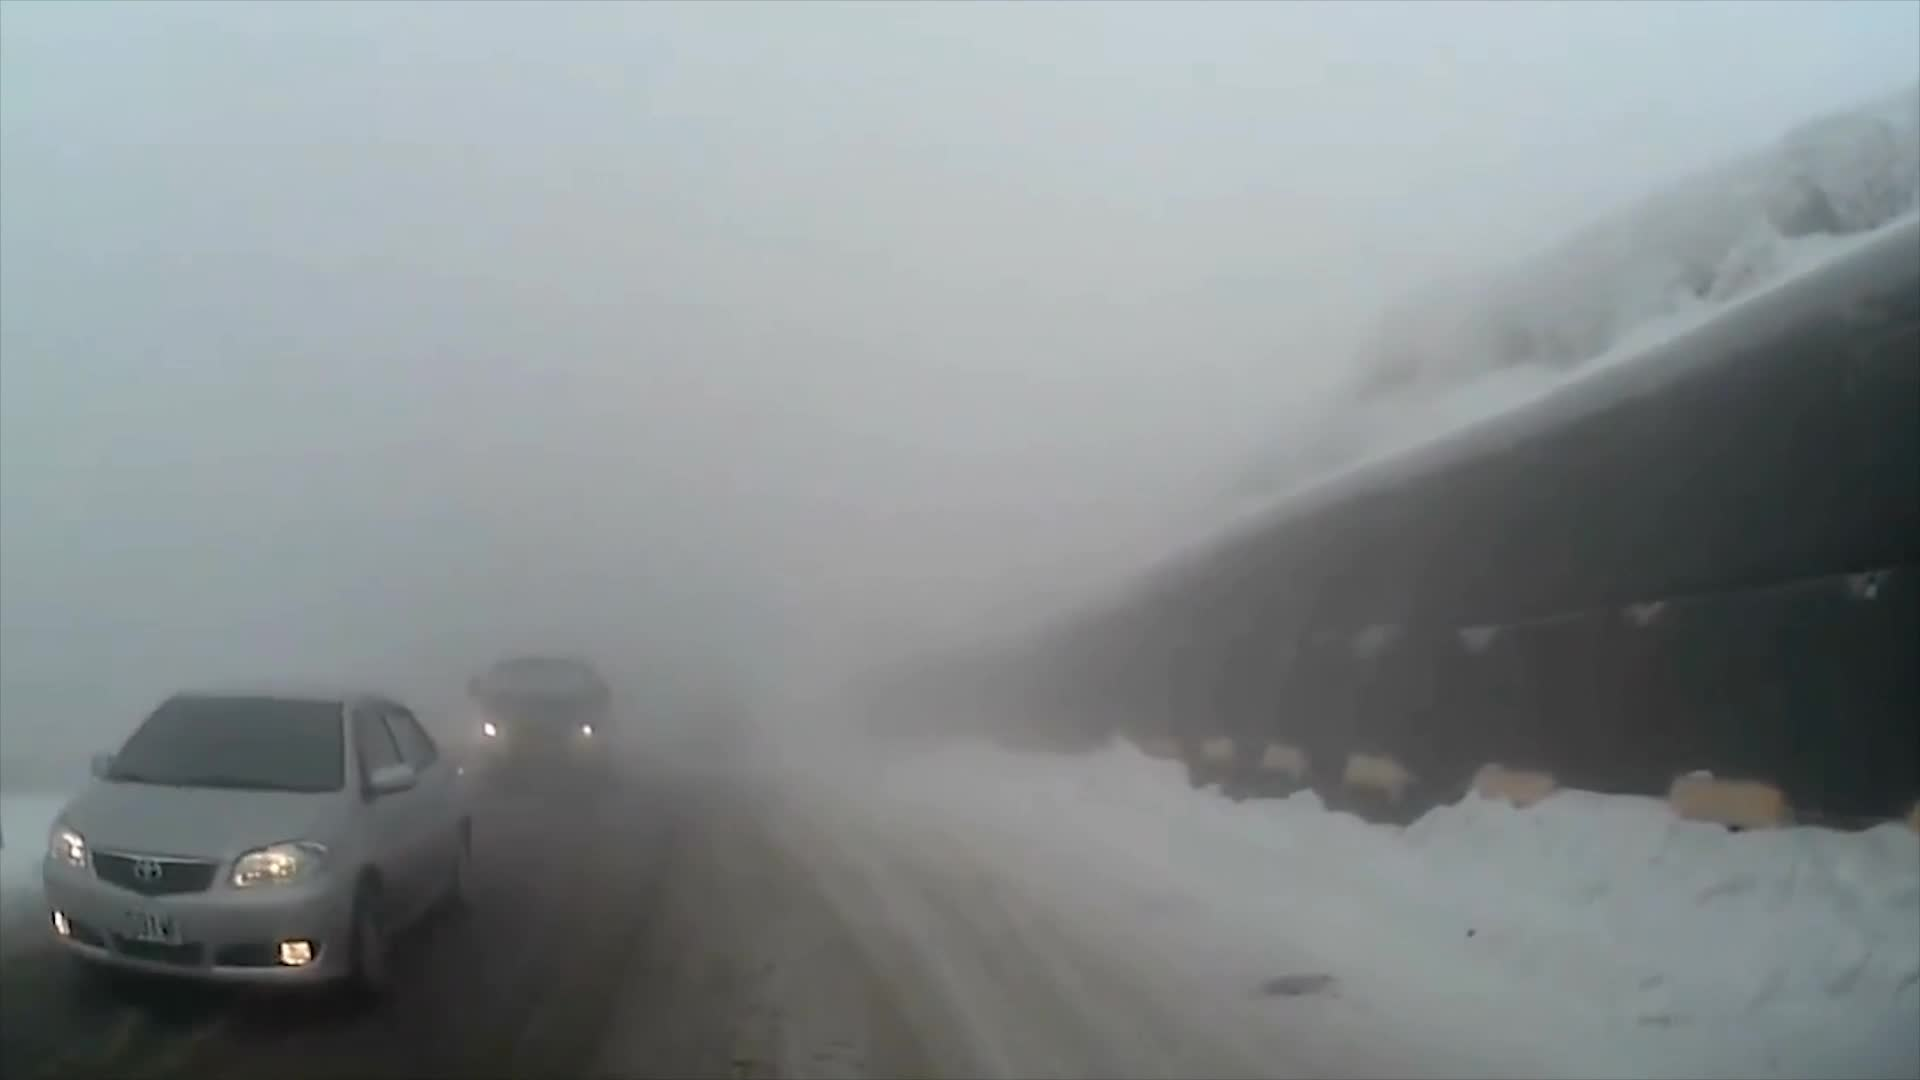vehicle: (40, 680, 479, 1007), (464, 649, 615, 782)
